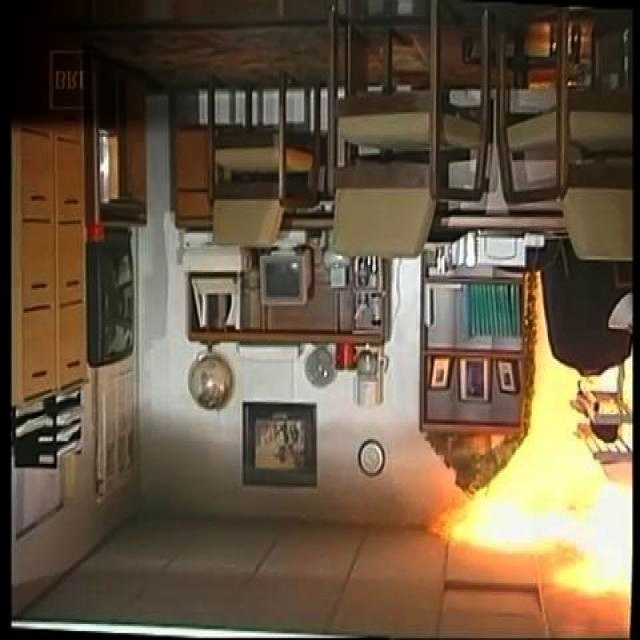fire: (457, 493, 640, 569)
